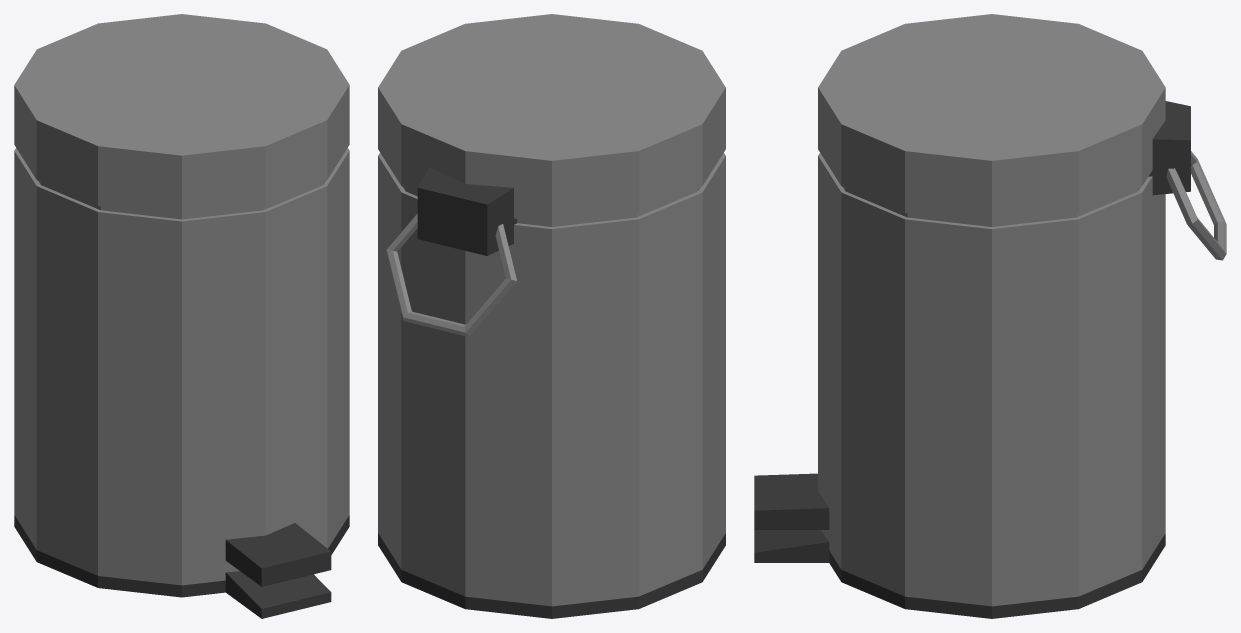
Rendered from Pedal Dustbin.fbx.
3 renders of one model, left to right at view 1: azimuth 30°, elevation 25°; view 2: azimuth 150°, elevation 25°; view 3: azimuth 270°, elevation 25°, orthographic. The views are drawn at different scales.
Parts seen in each view (by area): view 1: Pedal Dustbin; view 2: Pedal Dustbin; view 3: Pedal Dustbin.
Boxes of the visible parts, box(x1,y1,x2,y2) form: Pedal Dustbin: box(14, 14, 349, 618); Pedal Dustbin: box(378, 14, 725, 618); Pedal Dustbin: box(754, 14, 1226, 618).
Size of the model in its own units: 40.86 by 59.39 by 55.47.
